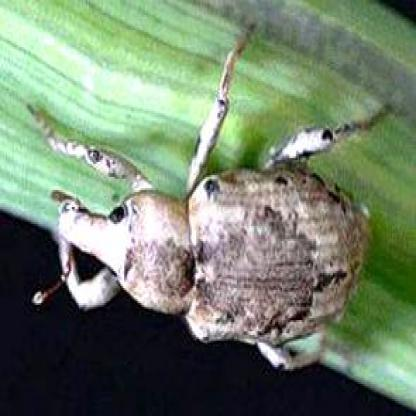rice-bug: (49, 26, 367, 371)
